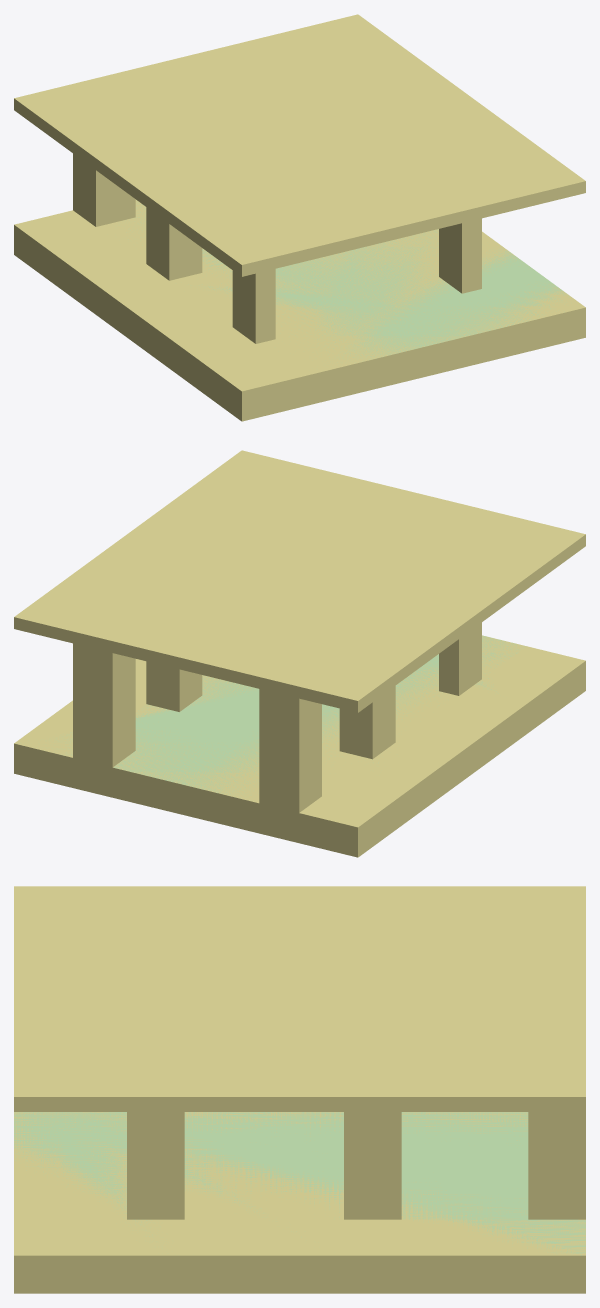
The model's file is subwaystationbg3.fbx.
3 views of the same model, one above another, from view 1: azimuth 30°, elevation 25°; view 2: azimuth 150°, elevation 25°; view 3: azimuth 270°, elevation 25° (orthographic). The views are drawn at different scales.
Visible parts, largest first — view 1: Cube; view 2: Cube; view 3: Cube.
Part boxes in pixels (x1,y1,x2,y2): Cube: (14, 14, 585, 421); Cube: (14, 450, 585, 857); Cube: (14, 886, 585, 1293).
Bounding box in the file's own units: 6365 × 2768 × 7300.
